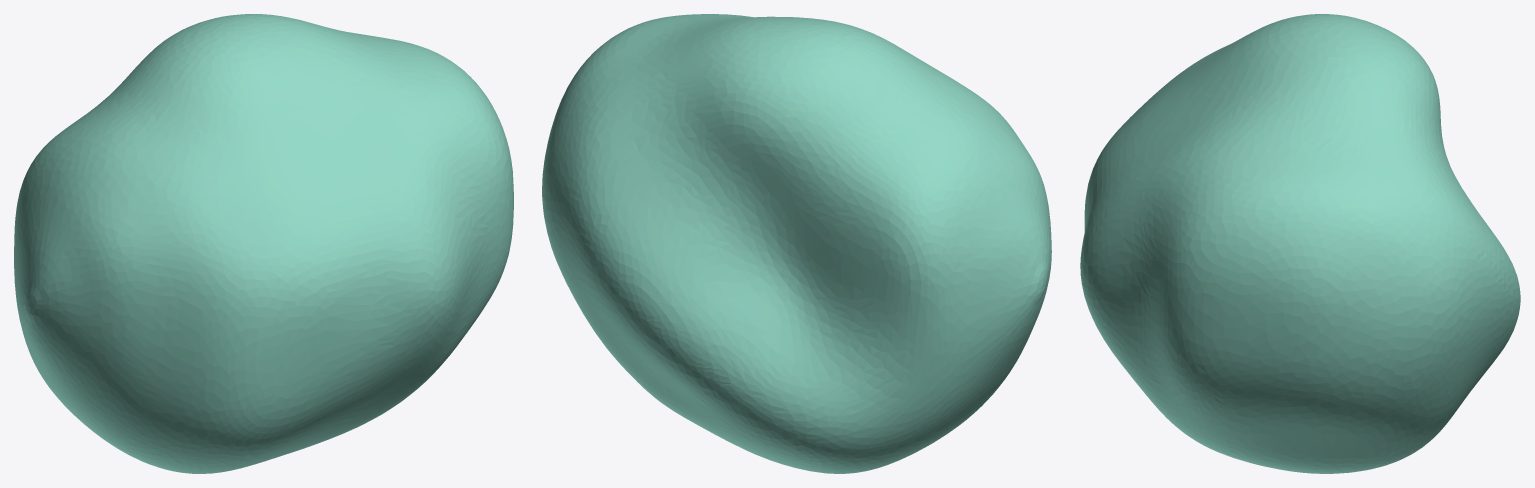
The model's file is ours.glb.
3 renders of one model, left to right at view 1: azimuth 30°, elevation 25°; view 2: azimuth 150°, elevation 25°; view 3: azimuth 270°, elevation 25°, orthographic. The views are drawn at different scales.
Visible parts, largest first — view 1: world; view 2: world; view 3: world.
Boxes of the visible parts, x1,y1,x2,y2 form: world: (14,14,513,473); world: (542,14,1051,473); world: (1080,14,1520,473).
Size of the model in its own units: 0.975 by 0.8369 by 0.7784.
